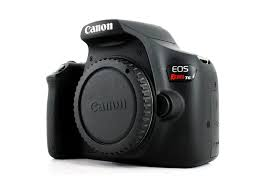camera: (47, 19, 219, 163)
